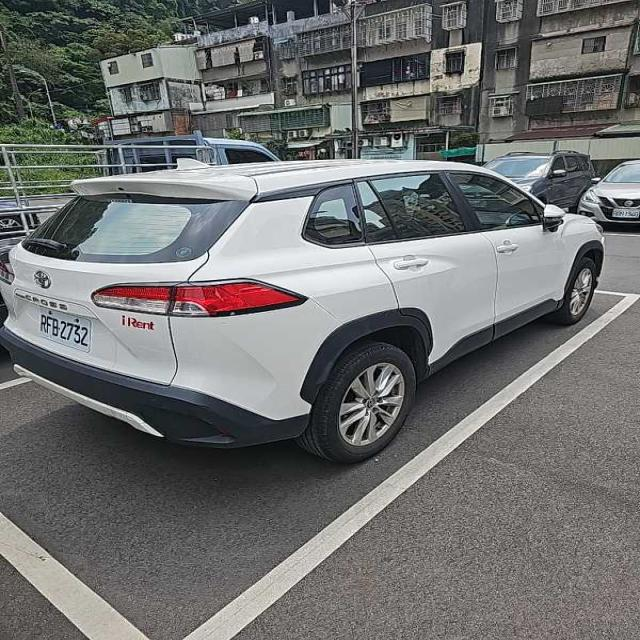license plate: (39, 306, 89, 352)
wheel: (297, 342, 415, 462)
